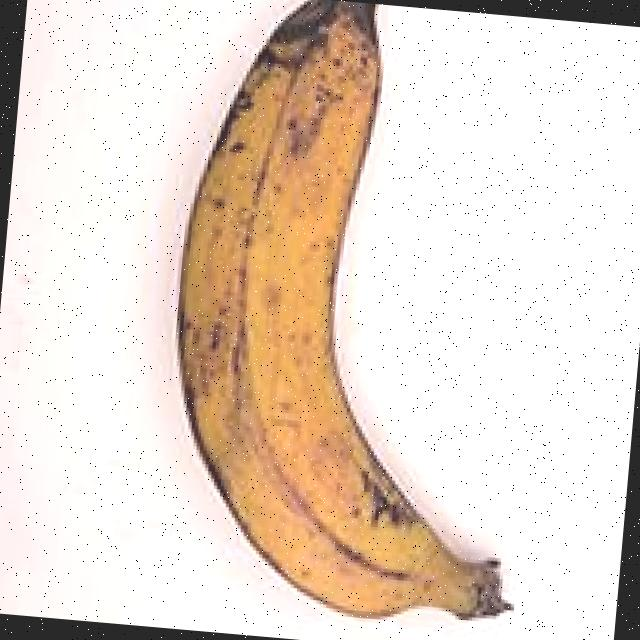Overripe: (117, 0, 582, 640)
